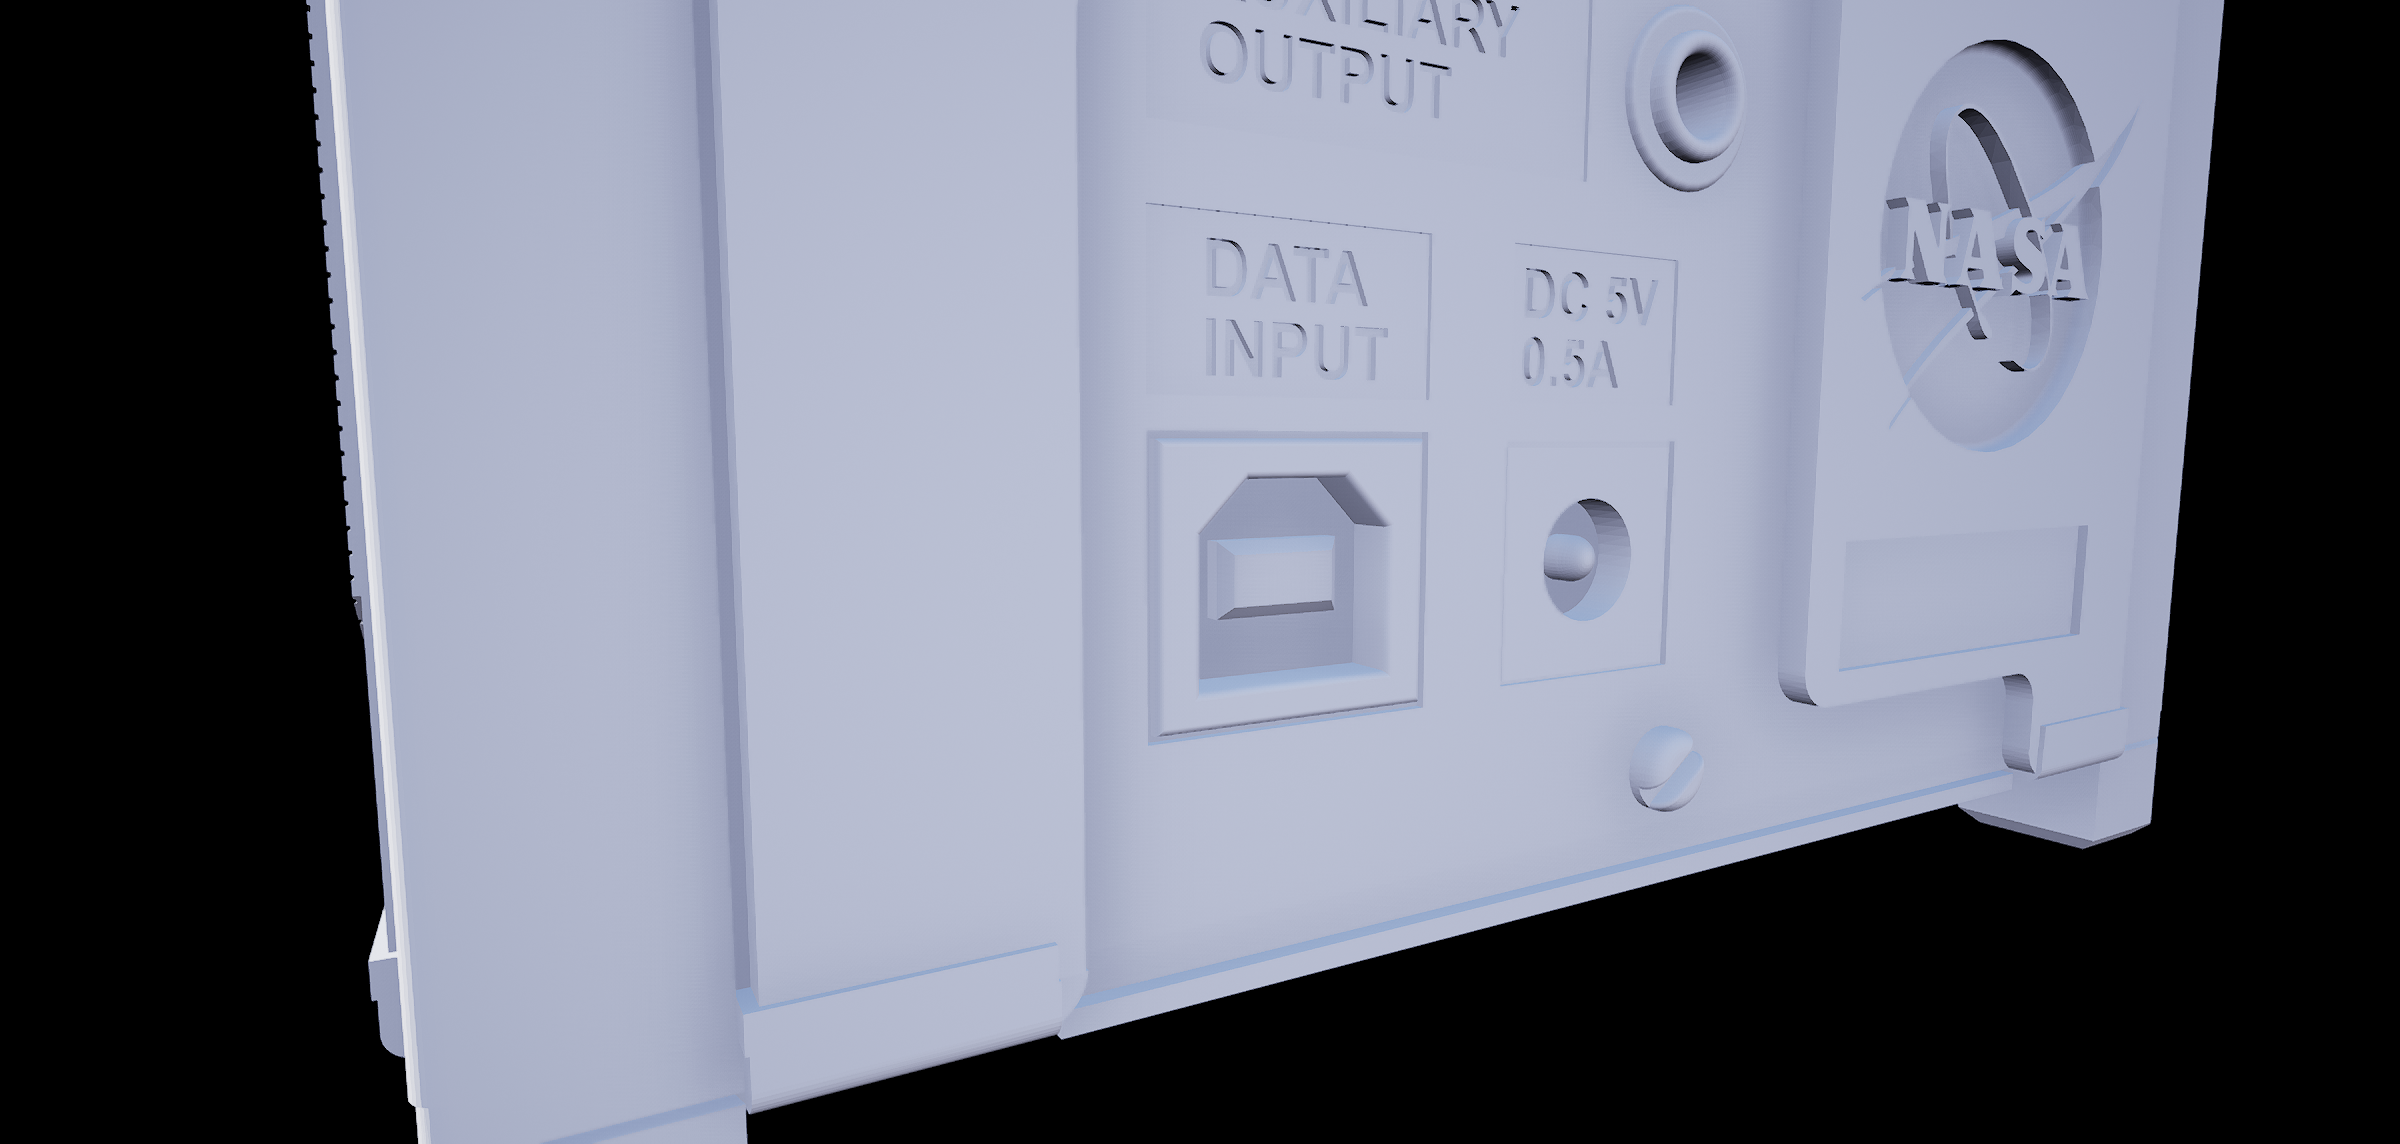aux: (1616, 11, 1760, 210)
dc: (1531, 479, 1641, 631)
usb: (1185, 466, 1402, 691)
